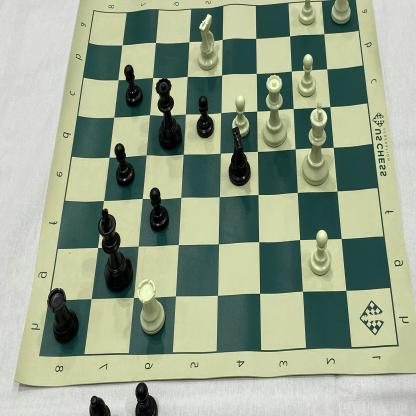black-king: (96, 207, 134, 295)
black-knight: (226, 128, 254, 188)
black-pawn: (112, 141, 136, 188), (147, 185, 170, 233), (194, 93, 216, 142), (124, 62, 144, 108)
black-queen: (154, 75, 184, 154)
black-rook: (48, 283, 78, 345)
white-king: (301, 100, 333, 186)
white-knight: (197, 11, 219, 73)
white-pawn: (309, 228, 335, 278), (296, 52, 318, 98), (230, 94, 252, 138), (298, 0, 318, 26)
white-queen: (259, 74, 290, 150)
white-rook: (137, 275, 167, 337), (327, 1, 354, 29)
